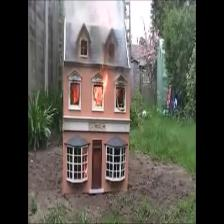fire: (94, 75, 110, 108)
